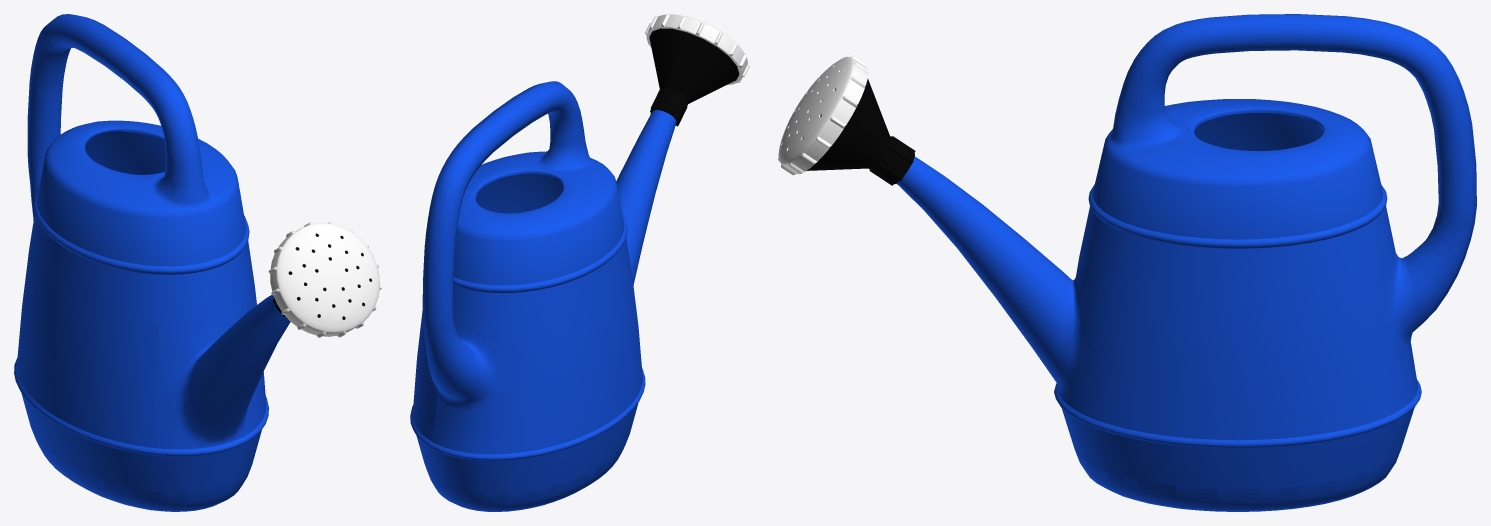
Rendered from WateringCan.fbx.
The picture shows the model from 3 angles, left to right: view 1: azimuth 30°, elevation 25°; view 2: azimuth 150°, elevation 25°; view 3: azimuth 270°, elevation 25°; orthographic projection. The views are drawn at different scales.
Parts seen in each view (by area): view 1: Watering Can; view 2: Watering Can; view 3: Watering Can.
Boxes of the visible parts, left/top/right/bottom form: Watering Can: left=14, top=14, right=381, bottom=511; Watering Can: left=410, top=14, right=749, bottom=511; Watering Can: left=778, top=14, right=1476, bottom=511.
Size of the model in its own units: 21.24 by 42.24 by 58.09.
